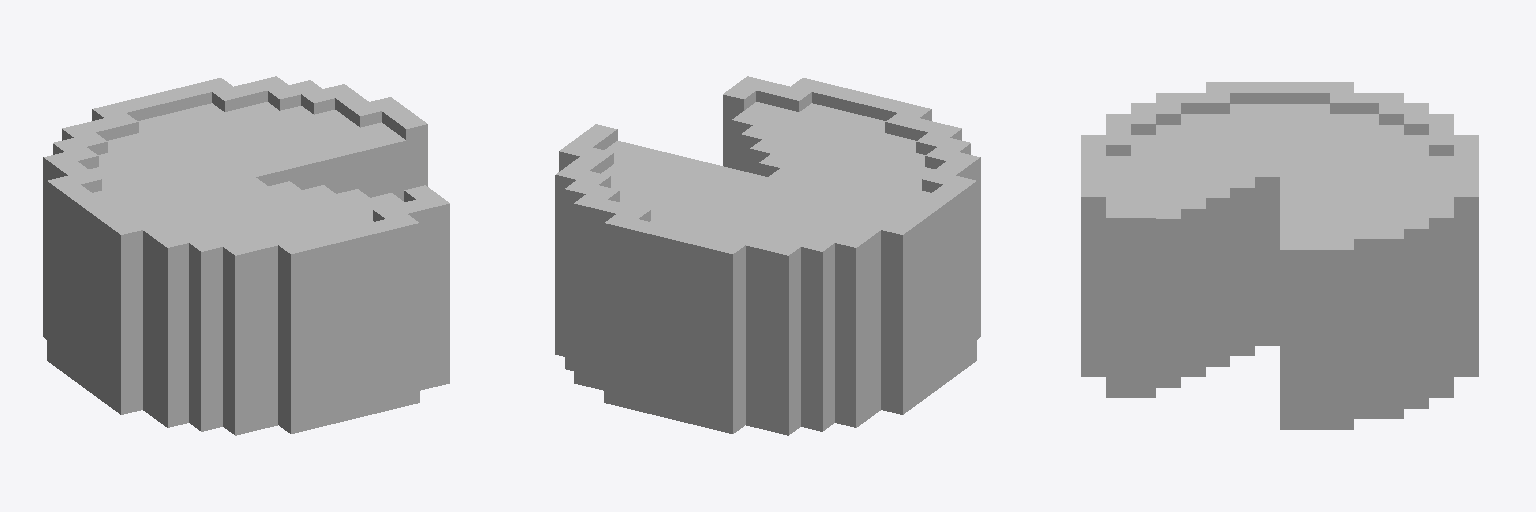
File: PumpkinPie.obj
The picture shows the model from 3 angles: view 1: azimuth 30°, elevation 25°; view 2: azimuth 150°, elevation 25°; view 3: azimuth 270°, elevation 25°; orthographic projection.
Size of the model in its own units: 16 by 8 by 16.